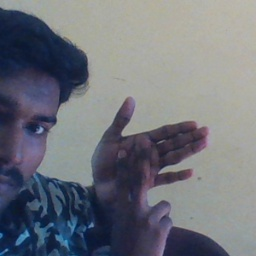N: (82, 96, 212, 226)
